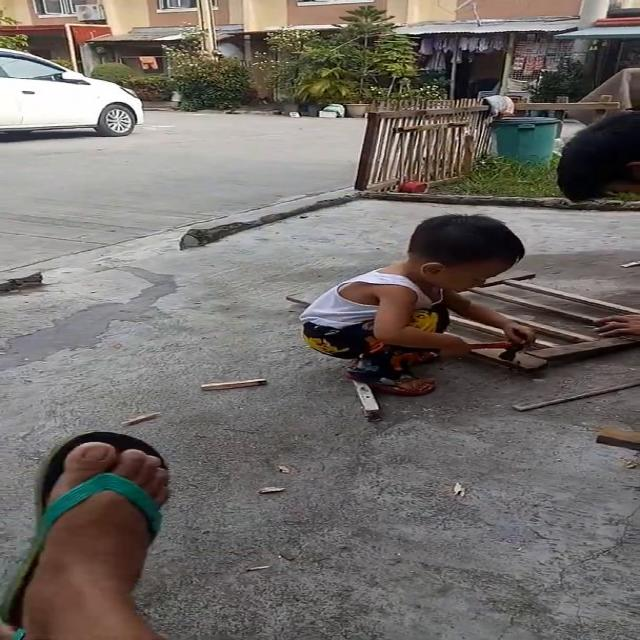hammer: (393, 328, 528, 361)
